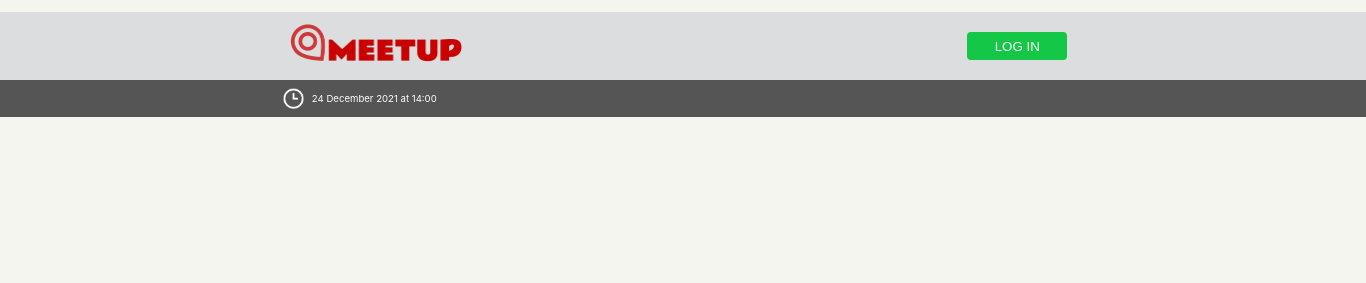
Test: Header integration tests › closes SetTimeModal when "Use real time" button is clicked
Click the element titled "custom time". click: (683, 98)
box: [0,80,1365,117]
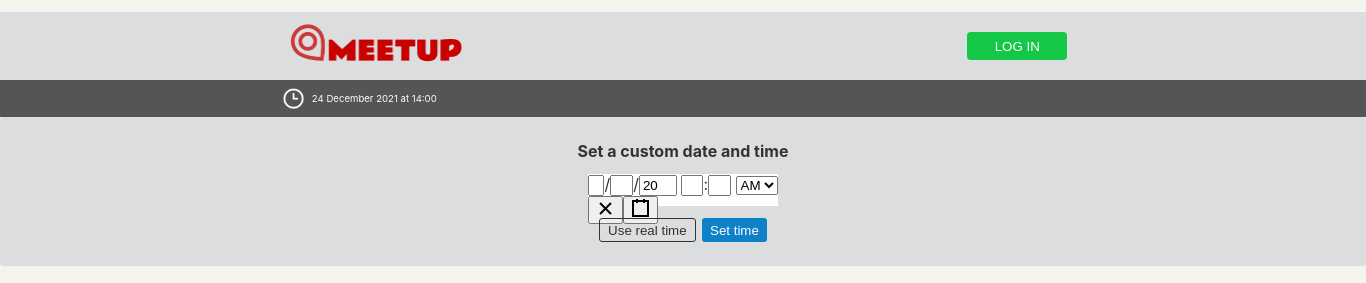
Check: the element titled "set a custom date" is shown, box [0,117,1365,266]
Check: the element named "Date" is shown, box [588,174,778,196]
Click the button "Use real time". click: (647, 230)
box: [599,218,696,242]
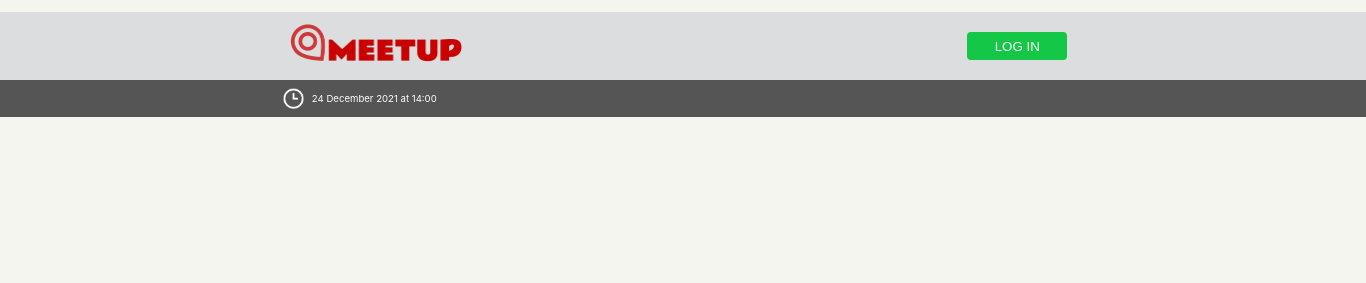
Check: the label labelled "date" is gone
